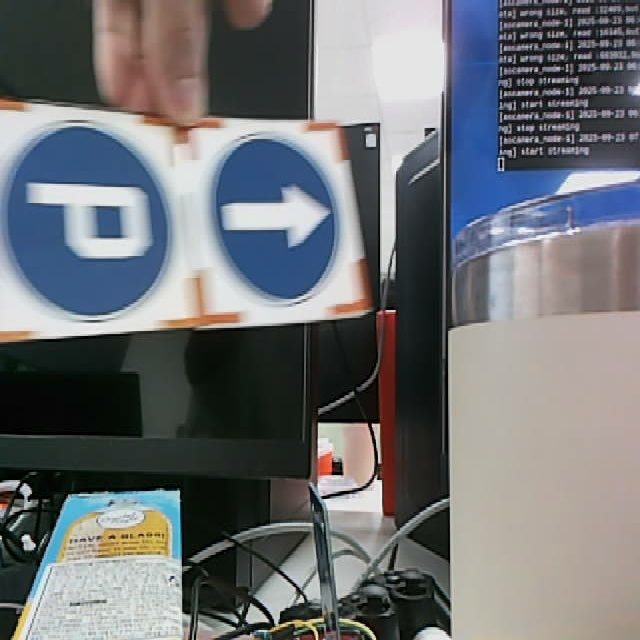parking: (1, 93, 203, 347)
strait: (208, 116, 375, 322)
